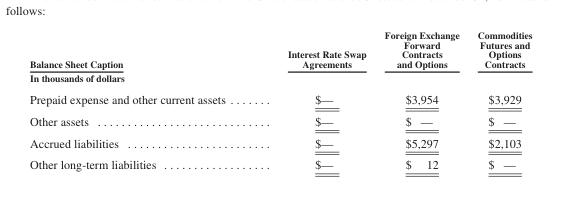table: (29, 28, 531, 170)
table column: (29, 28, 255, 170), (255, 28, 374, 170), (374, 28, 467, 170), (467, 28, 531, 170)
table column header: (29, 28, 531, 70)
table projected row header: (29, 70, 531, 87)
table row: (29, 28, 531, 70), (29, 87, 531, 109), (29, 109, 531, 131), (29, 131, 531, 153), (29, 70, 531, 87), (29, 153, 531, 170)
